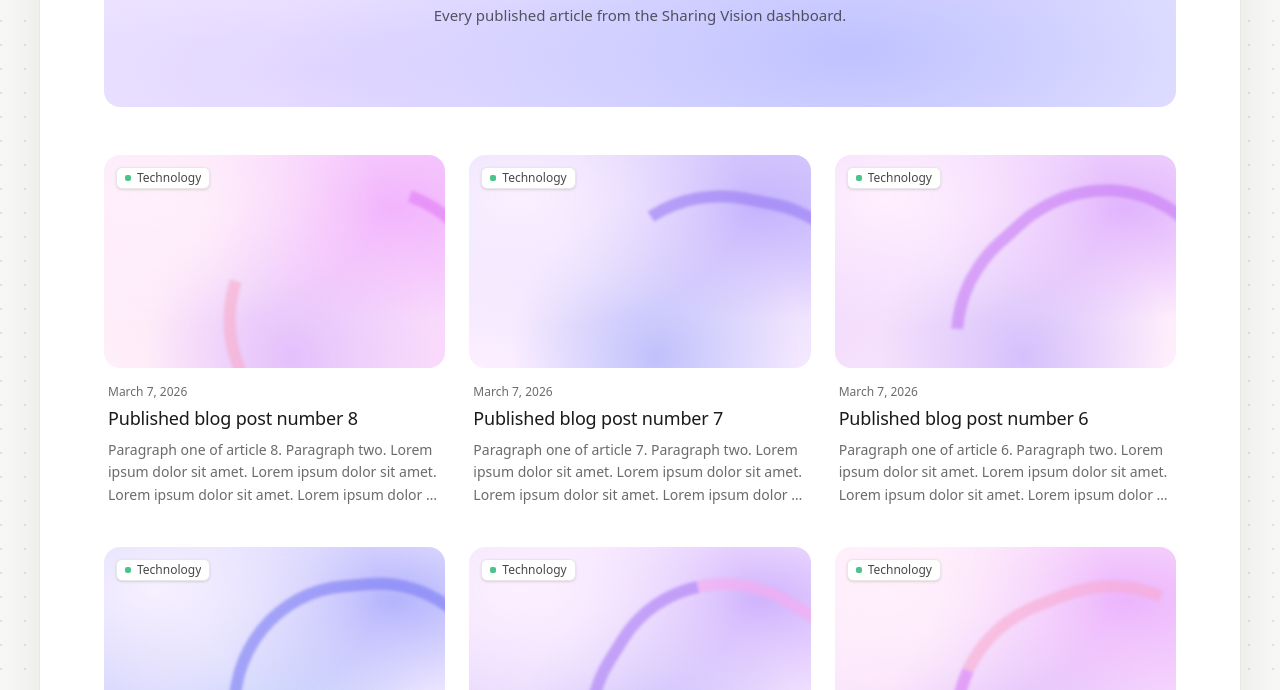
Test: Preview page › opens the full article, keeping its line breaks
(page scrolled)
Click the link "Published blog post number 8" at (275, 331), box [104,154,445,507]
(page scrolled)
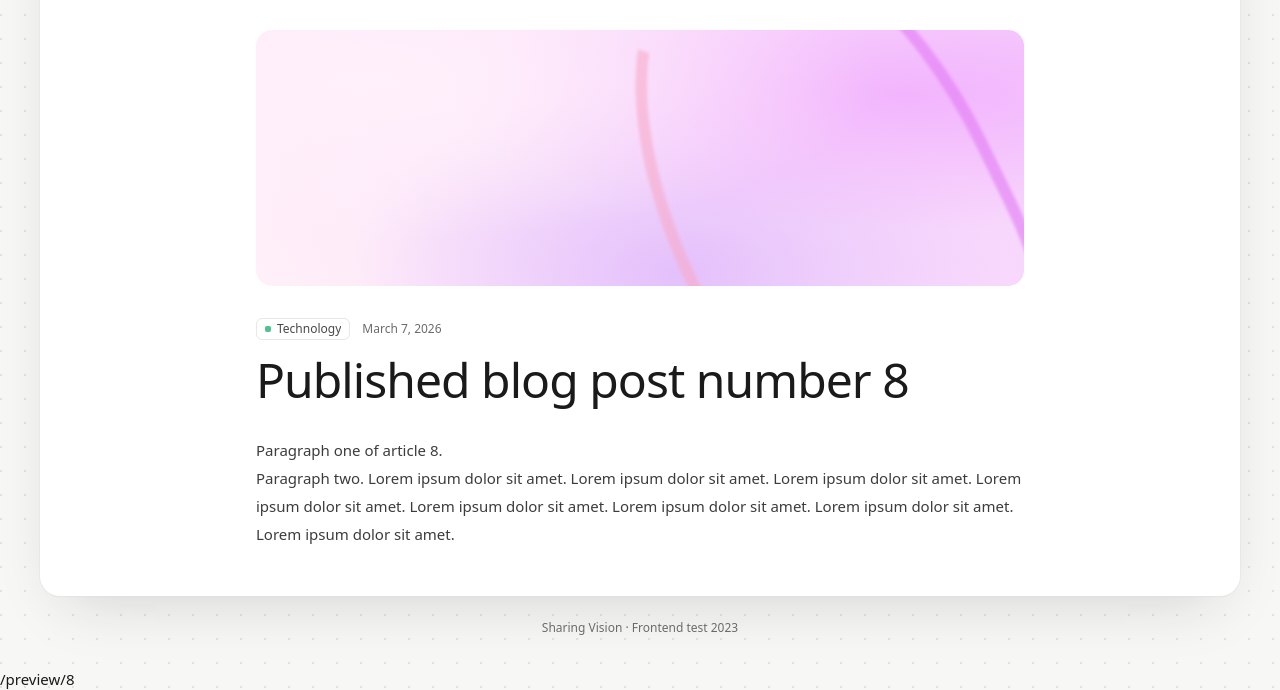
Expected: the heading "Published blog post number 8" is shown, [256,346,909,412]
Result: the text with test id "location" reads "/preview/8" at [0,668,74,688]
